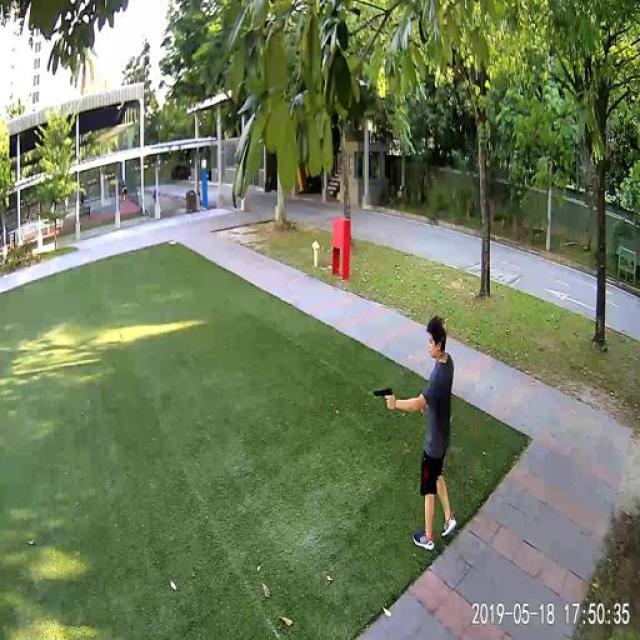Gun: (364, 380, 403, 428)
